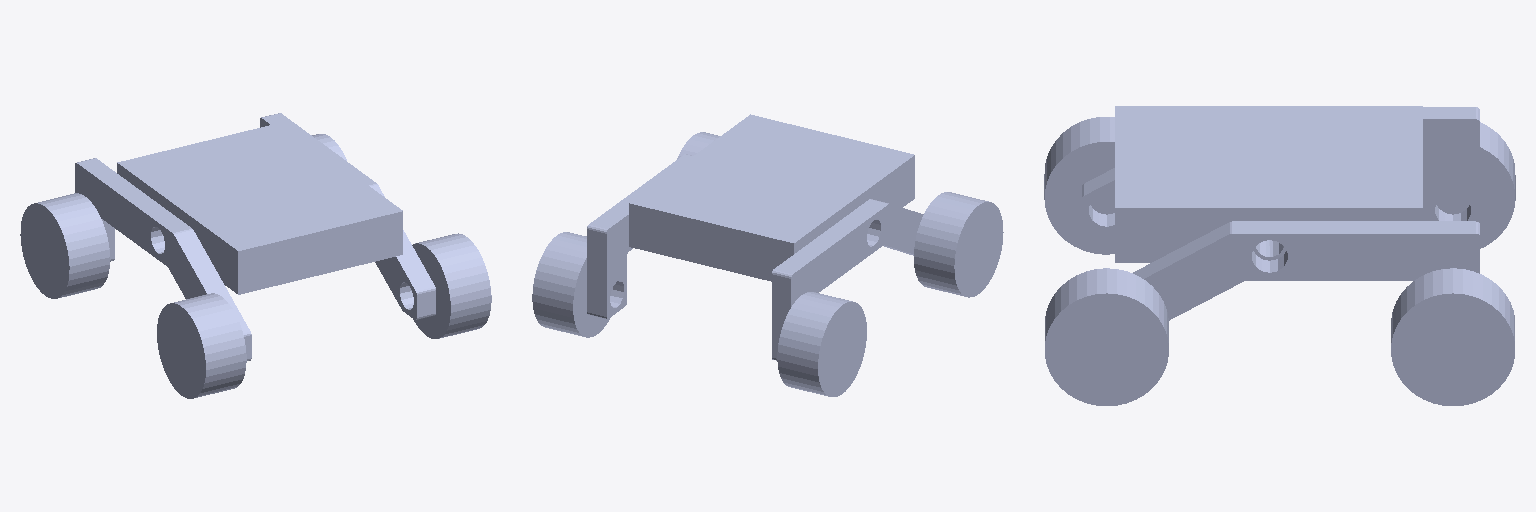
robot.urdf — rover:
<?xml version="1.0"?>
<robot name="rover">

    <link name="base_link">
        <inertial>
            <origin xyz="0.112849924193879 -0.232793382157193 0.183076177862911" rpy="0 0 0" />
            <mass value="45.6227535447207" />
            <inertia ixx="1.84588066123249" ixy="1.04398822934646E-09" ixz="-2.19695722124988E-08" iyy="1.12675188376899" iyz="-5.73876173682645E-05" izz="2.83493149680154" />
        </inertial>
        <visual>
            <origin xyz="0 0 0" rpy="0 0 0" />
            <geometry>
                <mesh filename="package://rover_sim/meshes/base_link.STL" />
            </geometry>
            <material name="">
                <color rgba="0.792156862745098 0.819607843137255 0.933333333333333 1" />
            </material>
        </visual>
        <collision>
            <origin xyz="0 0 0" rpy="0 0 0" />
            <geometry>
                <mesh filename="package://rover_sim/meshes/base_link.STL" />
            </geometry>
        </collision>
    </link>

    <link name="ROCKER_L">
        <inertial>
            <origin xyz="0.0576803895536336 0.0340847304368007 0.031349999159246" rpy="0 0 0" />
            <mass value="6.7188177795508" />
            <inertia ixx="0.0336800630880808" ixy="-0.0365712848373038" ixz="1.472561846937E-09" iyy="0.459728619591422" iyz="7.0337085870288E-10" izz="0.489006412488076" />
        </inertial>
        <visual>
            <origin xyz="0 0 0" rpy="0 0 0" />
            <geometry>
                <mesh filename="package://rover_sim/meshes/ROCKER_L.STL" />
            </geometry>
            <material name="">
                <color rgba="0.792156862745098 0.819607843137255 0.933333333333333 1" />
            </material>
        </visual>
        <collision>
            <origin xyz="0 0 0" rpy="0 0 0" />
            <geometry>
                <mesh filename="package://rover_sim/meshes/ROCKER_L.STL" />
            </geometry>
        </collision>
    </link>

    <joint name="ROCKER_L_JOINT" type="revolute">
        <origin xyz="0.3766 -0.20681 0.078821" rpy="1.5708 0 1.5708" />
        <parent link="base_link" />
        <child link="ROCKER_L" />
        <axis xyz="0 0 1" />
        <limit lower="-0.35" upper="0.35" effort="0" velocity="0" />
    </joint>

    <link name="ROCKER_R">
        <inertial>
            <origin xyz="0.0576803900595149 0.0340847288843424 0.0313499999163654" rpy="0 0 0" />
            <mass value="6.71881777955079" />
            <inertia ixx="0.0336800620025095" ixy="-0.0365712785139467" ixz="6.60208857696379E-10" iyy="0.459728620676994" iyz="5.30271193571037E-11" izz="0.489006412488076" />
        </inertial>
        <visual>
            <origin xyz="0 0 0" rpy="0 0 0" />
            <geometry>
                <mesh filename="package://rover_sim/meshes/ROCKER_R.STL" />
            </geometry>
            <material name="">
                <color rgba="0.792156862745098 0.819607843137255 0.933333333333333 1" />
            </material>
        </visual>
        <collision>
            <origin xyz="0 0 0" rpy="0 0 0" />
            <geometry>
                <mesh filename="package://rover_sim/meshes/ROCKER_R.STL" />
            </geometry>
        </collision>
    </link>

    <link name="WHEEL_FL">
        <inertial>
            <origin xyz="9.42478317611517E-11 2.81360871927372E-09 -0.0649999999999999" rpy="0 0 0" />
            <mass value="7.55389670370359" />
            <inertia ixx="0.045567622882308" ixy="1.52458161818203E-18" ixz="-3.52208858329878E-11" iyy="0.045567622882308" iyz="-1.05145916727233E-09" izz="0.0698584367158508" />
        </inertial>
        <visual>
            <origin xyz="0 0 0" rpy="0 0 0" />
            <geometry>
                <mesh filename="package://rover_sim/meshes/WHEEL_FL.STL" />
            </geometry>
            <material name="">
                <color rgba="0.792156862745098 0.819607843137255 0.933333333333333 1" />
            </material>
        </visual>
        <collision>
            <origin xyz="0 0 0" rpy="0 0 0" />
            <geometry>
                <mesh filename="package://rover_sim/meshes/WHEEL_FL.STL" />
            </geometry>
        </collision>
    </link>

    <link name="WHEEL_RL">
        <inertial>
            <origin xyz="9.42478872723029E-11 2.8136087197074E-09 -0.0650000000000001" rpy="0 0 0" />
            <mass value="7.55389670370359" />
            <inertia ixx="0.045567622882308" ixy="1.52458158197648E-18" ixz="-3.52208867726297E-11" iyy="0.045567622882308" iyz="-1.05145916727233E-09" izz="0.0698584367158508" />
        </inertial>
        <visual>
            <origin xyz="0 0 0" rpy="0 0 0" />
            <geometry>
                <mesh filename="package://rover_sim/meshes/WHEEL_RL.STL" />
            </geometry>
            <material name="">
                <color rgba="0.792156862745098 0.819607843137255 0.933333333333333 1" />
            </material>
        </visual>
        <collision>
            <origin xyz="0 0 0" rpy="0 0 0" />
            <geometry>
                <mesh filename="package://rover_sim/meshes/WHEEL_RL.STL" />
            </geometry>
        </collision>
    </link>

    <link name="WHEEL_FR">
        <inertial>
            <origin xyz="9.42478317611517E-11 2.81360889231239E-09 -0.0649999999999999" rpy="0 0 0" />
            <mass value="7.55389670370359" />
            <inertia ixx="0.045567622882308" ixy="1.52458164381907E-18" ixz="-3.52208928881465E-11" iyy="0.045567622882308" iyz="-1.05145923201004E-09" izz="0.0698584367158508" />
        </inertial>
        <visual>
            <origin xyz="0 0 0" rpy="0 0 0" />
            <geometry>
                <mesh filename="package://rover_sim/meshes/WHEEL_FR.STL" />
            </geometry>
            <material name="">
                <color rgba="0.792156862745098 0.819607843137255 0.933333333333333 1" />
            </material>
        </visual>
        <collision>
            <origin xyz="0 0 0" rpy="0 0 0" />
            <geometry>
                <mesh filename="package://rover_sim/meshes/WHEEL_FR.STL" />
            </geometry>
        </collision>
    </link>

    <link name="WHEEL_RR">
        <inertial>
            <origin xyz="9.42479150278785E-11 2.8136088918787E-09 -0.0649999999999999" rpy="0 0 0" />
            <mass value="7.55389670370359" />
            <inertia ixx="0.045567622882308" ixy="1.52458164726758E-18" ixz="-3.52208937162165E-11" iyy="0.045567622882308" iyz="-1.05145923201005E-09" izz="0.0698584367158508" />
        </inertial>
        <visual>
            <origin xyz="0 0 0" rpy="0 0 0" />
            <geometry>
                <mesh filename="package://rover_sim/meshes/WHEEL_RR.STL" />
            </geometry>
            <material name="">
                <color rgba="0.792156862745098 0.819607843137255 0.933333333333333 1" />
            </material>
        </visual>
        <collision>
            <origin xyz="0 0 0" rpy="0 0 0" />
            <geometry>
                <mesh filename="package://rover_sim/meshes/WHEEL_RR.STL" />
            </geometry>
        </collision>
    </link>


    <joint name="ROCKER_R_JOINT" type="revolute">
        <origin xyz="-0.213600073527999 -0.206807226568189 0.0788212705195118" rpy="1.57079630458203 0 1.5707963267949" />
        <parent link="base_link" />
        <child link="ROCKER_R" />
        <axis xyz="0 0 1" />
        <limit lower="-0.35" upper="0.35" effort="0" velocity="0" />
    </joint>

    <joint name="WHEEL_FL_JOINT" type="revolute">
        <origin xyz="-0.37995 -0.082166 0.1927" rpy="0 0 3.1416" />
        <parent link="ROCKER_L" />
        <child link="WHEEL_FL" />
        <axis xyz="0 0 -1" />
        <limit lower="-9999" upper="9999" effort="0" velocity="20" />
    </joint>

    <joint name="WHEEL_RL_JOINT" type="revolute">
        <origin xyz="0.375460091610939 -0.0821661046351226 0.192700001280739" rpy="0 0 3.14159265358979" />
        <parent link="ROCKER_L" />
        <child link="WHEEL_RL" />
        <axis xyz="0 0 -0.999999999999999" />
        <limit lower="0" upper="0" effort="0" velocity="20" />
    </joint>

    <joint name="WHEEL_FR_JOINT" type="revolute">
        <origin xyz="-0.379949909887969 -0.0821661155180505 0" rpy="0 0 3.14159263874792" />
        <parent link="ROCKER_R" />
        <child link="WHEEL_FR" />
        <axis xyz="0 0 -0.999999999999999" />
        <limit lower="999" upper="100" effort="0" velocity="20" />
    </joint>

    <joint name="WHEEL_RR_JOINT" type="revolute">
        <origin xyz="0.375460090112031 -0.082166114488072 0" rpy="0 0 3.14159263874792" />
        <parent link="ROCKER_R" />
        <child link="WHEEL_RR" />
        <axis xyz="0 0 -0.999999999999999" />
        <limit lower="100" upper="100" effort="0" velocity="20" />
    </joint>

    <!-- <plugin name="gz::sim::systems::JointStatePublisher" filename="gz-sim-joint-state-publisher-system">
    </plugin>

    <plugin name="gz::sim::systems::OdometryPublisher" filename="gz-sim-odometry-publisher-system">
        <odom_frame>odom</odom_frame>
        <robot_base_frame>base_link</robot_base_frame>
        <dimensions>3</dimensions>
    </plugin>

    <plugin filename="gz-sim-apply-joint-force-system" name="gz::sim::systems::ApplyJointForce">
        <joint_name>motor_0</joint_name>
    </plugin>
    <plugin filename="gz-sim-apply-joint-force-system" name="gz::sim::systems::ApplyJointForce">
        <joint_name>motor_1</joint_name>
    </plugin>
    <plugin filename="gz-sim-apply-joint-force-system" name="gz::sim::systems::ApplyJointForce">
        <joint_name>motor_2</joint_name>
    </plugin>
    <plugin filename="gz-sim-apply-joint-force-system" name="gz::sim::systems::ApplyJointForce">
        <joint_name>motor_3</joint_name>
    </plugin> -->

</robot>

--- Facts derived from the render (not from the file) ---
3 views of the same robot in one strip: view 1: azimuth 30°, elevation 25°; view 2: azimuth 150°, elevation 25°; view 3: azimuth 270°, elevation 25° (orthographic).
Model rover with 7 links and 6 joints (6 revolute), rooted at base_link, posed joints at zero except 2 at the middle of their limits (WHEEL_FR_JOINT = 550, WHEEL_RR_JOINT = 100).
Links seen in each view (by area): view 1: base_link, ROCKER_R, WHEEL_FR, WHEEL_RR, WHEEL_FL, ROCKER_L; view 2: base_link, ROCKER_R, WHEEL_RR, WHEEL_FR, WHEEL_RL, ROCKER_L; view 3: base_link, ROCKER_L, WHEEL_RL, WHEEL_FL, ROCKER_R, WHEEL_FR, WHEEL_RR.
Boxes of the visible links, x1,y1,x2,y2 form: base_link: [117, 122, 402, 294]; ROCKER_R: [75, 158, 251, 360]; WHEEL_FR: [157, 293, 246, 398]; WHEEL_RR: [20, 193, 109, 298]; WHEEL_FL: [412, 233, 491, 338]; ROCKER_L: [260, 113, 435, 319]; base_link: [629, 114, 914, 281]; ROCKER_R: [772, 199, 923, 360]; WHEEL_RR: [777, 292, 866, 396]; WHEEL_FR: [914, 192, 1003, 297]; WHEEL_RL: [532, 232, 610, 337]; ROCKER_L: [587, 154, 692, 318]; base_link: [1115, 106, 1422, 262]; ROCKER_L: [1133, 221, 1479, 320]; WHEEL_RL: [1391, 268, 1514, 405]; WHEEL_FL: [1045, 268, 1168, 405]; ROCKER_R: [1082, 107, 1479, 232]; WHEEL_FR: [1044, 117, 1114, 254]; WHEEL_RR: [1423, 122, 1515, 248].
Size in the robot's own frame: 0.9129 by 1.03 by 0.3883 metres.
Meshes: 7 distinct files referenced, 7 mesh visuals loaded (7 binary STL).